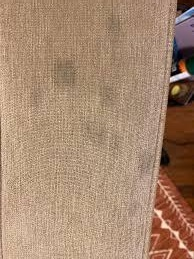oil: (83, 86, 120, 141), (45, 61, 76, 94), (133, 152, 156, 173)
